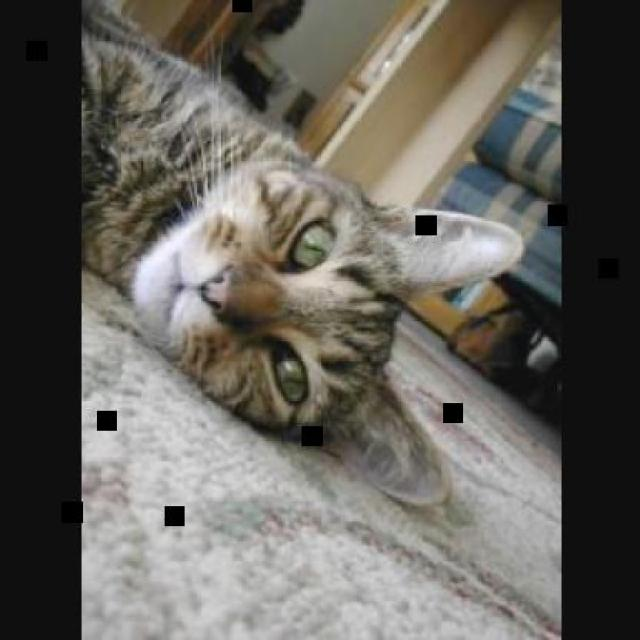unauthorized: (78, 0, 524, 514)
